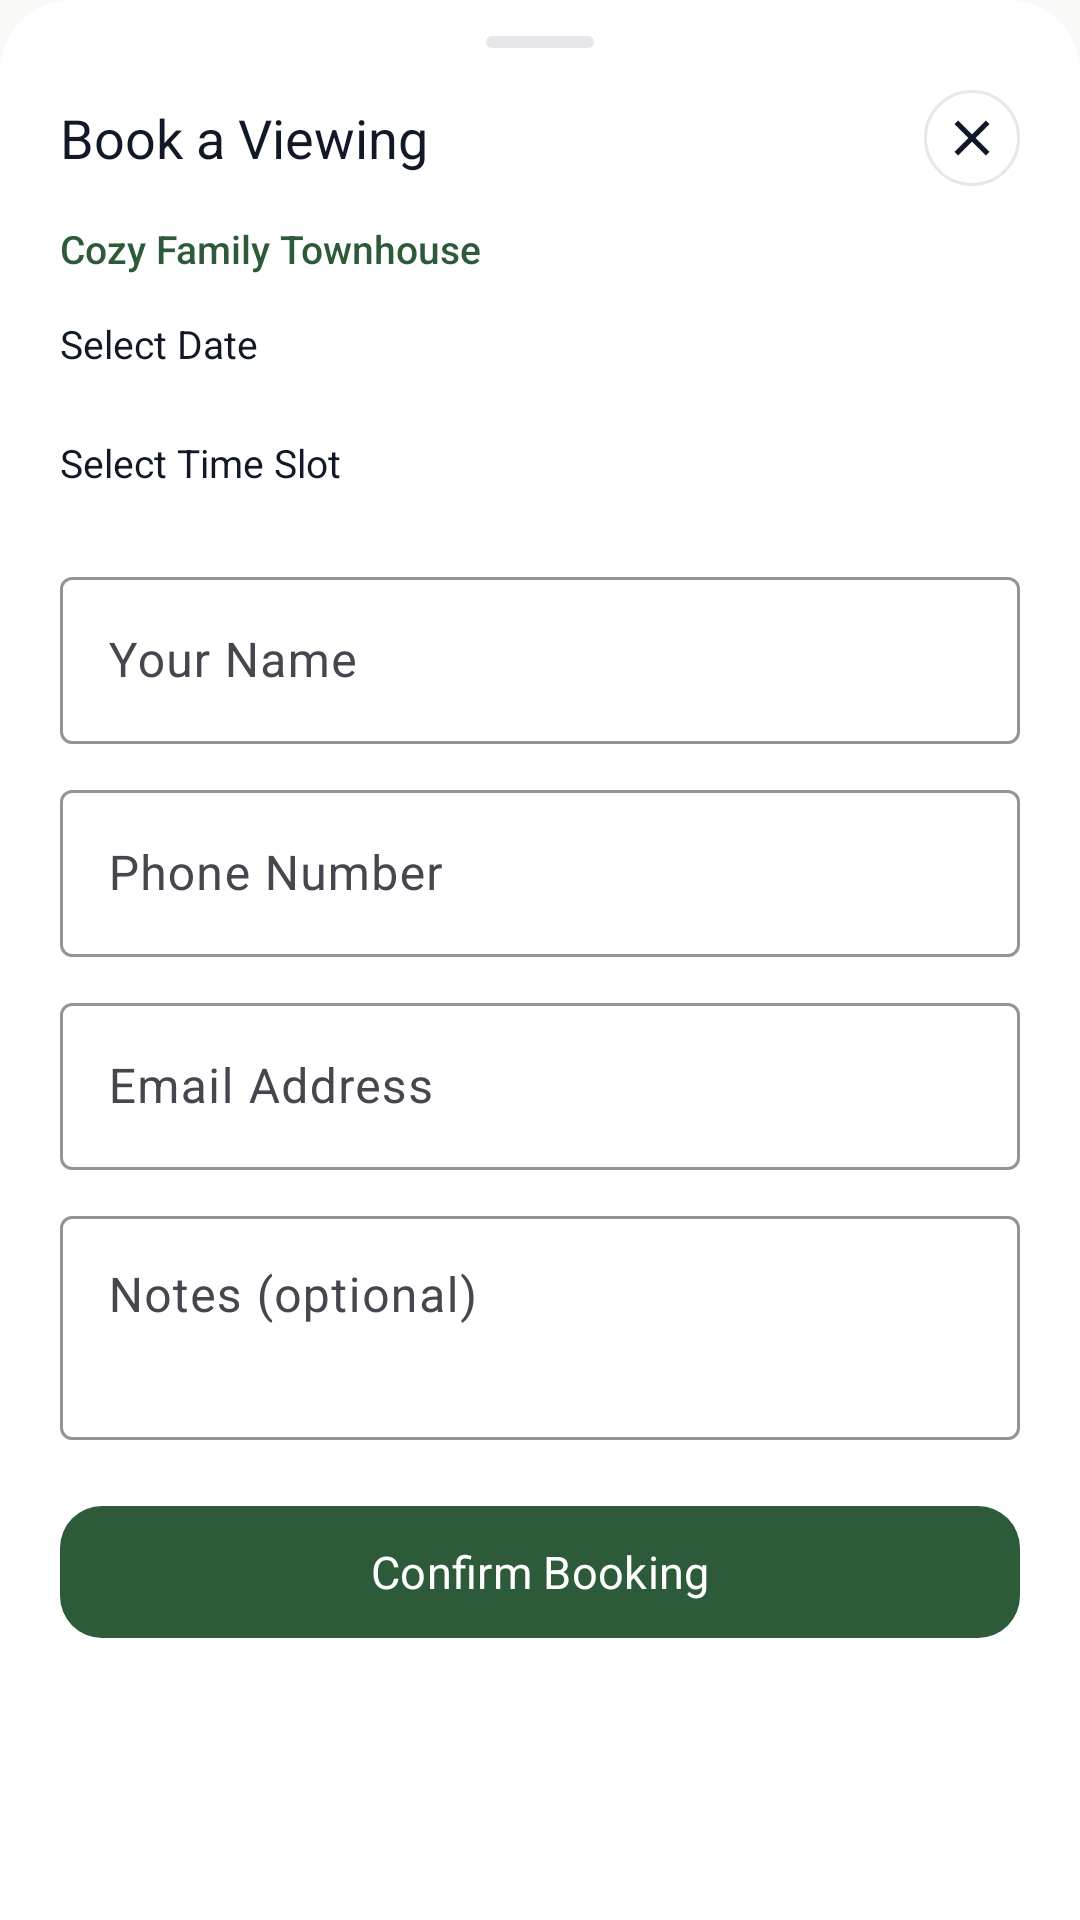

Where to tap for icons on this 1080 x 1920 app screen, as point (x, y):
Close: point (972, 138)
